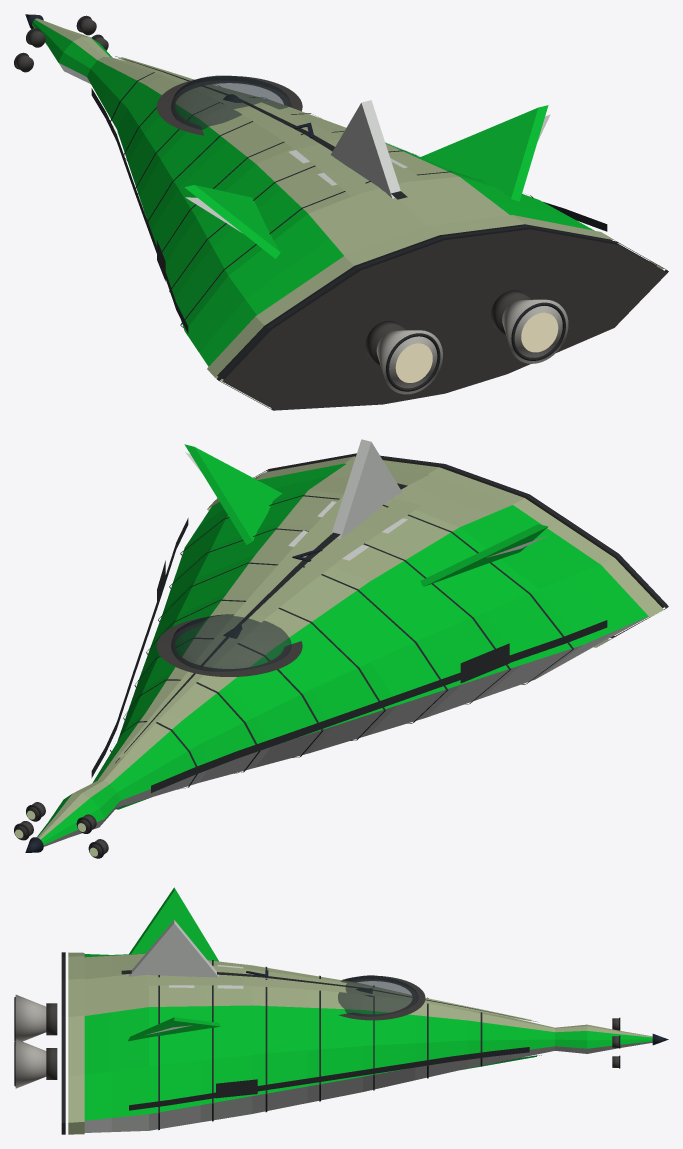
File: Ship_PyramidLifter_390936.glb
3 renders of one model, top to bottom at view 1: azimuth 30°, elevation 25°; view 2: azimuth 150°, elevation 25°; view 3: azimuth 270°, elevation 25°, orthographic. The views are drawn at different scales.
Parts seen in each view (by area): view 1: Fuselage_MainPyramidalLiftingBody, EngineDeck_AftFacetedDarkMountPlate, TailFin_Right_ShortCantedStabilizer, EngineDeck_AftOuterArmorCollar, PaintDorsalSplit_PrimaryCentralArmor, CanopyGlass_LowInsetSmokedDome, TailFin_Left_ShortCantedStabilizer, EngineEmitter, Nose_FacetedRamNeedle, CanopyFrame_LowInsetArmoredOvalRim, EngineBell_LeftWide_BurnishedNozzle, EngineBell_RightWide_BurnishedNozzle (+9 smaller); view 2: Fuselage_MainPyramidalLiftingBody, PaintDorsalSplit_PrimaryCentralArmor, CanopyGlass_LowInsetSmokedDome, EngineDeck_AftOuterArmorCollar, TailFin_Right_ShortCantedStabilizer, SideChinePanel_Left_LongDarkArmorJoint, Nose_FacetedRamNeedle, CanopyFrame_LowInsetArmoredOvalRim, TailFin_Center_TrimInsetPatch_B, TailFin_Center_LowDorsalKeel, TailFin_Left_ShortCantedStabilizer, EngineDeck_AftDarkCompressionSeal (+7 smaller); view 3: Fuselage_MainPyramidalLiftingBody, PaintDorsalSplit_PrimaryCentralArmor, EngineDeck_AftOuterArmorCollar, CanopyGlass_LowInsetSmokedDome, SideChinePanel_Right_LongDarkArmorJoint, TailFin_Left_ShortCantedStabilizer, Nose_FacetedRamNeedle, TailFin_Center_TrimInsetPatch_A, EngineBell_RightWide_BurnishedNozzle, EngineBell_LeftWide_BurnishedNozzle, CanopyFrame_LowInsetArmoredOvalRim, TailFin_Center_LowDorsalKeel (+6 smaller).
Boxes of the visible parts, box(x1,y1,x2,y2) form: Fuselage_MainPyramidalLiftingBody: box(87, 57, 656, 379); EngineDeck_AftFacetedDarkMountPlate: box(222, 229, 667, 410); TailFin_Right_ShortCantedStabilizer: box(419, 105, 548, 201); EngineDeck_AftOuterArmorCollar: box(207, 215, 663, 406); PaintDorsalSplit_PrimaryCentralArmor: box(118, 57, 421, 195); CanopyGlass_LowInsetSmokedDome: box(171, 75, 291, 129); TailFin_Left_ShortCantedStabilizer: box(185, 185, 280, 258); EngineEmitter: box(395, 312, 558, 382); Nose_FacetedRamNeedle: box(32, 18, 112, 83); CanopyFrame_LowInsetArmoredOvalRim: box(156, 76, 302, 135); EngineBell_LeftWide_BurnishedNozzle: box(376, 330, 442, 394); EngineBell_RightWide_BurnishedNozzle: box(502, 299, 568, 363); Fuselage_MainPyramidalLiftingBody: box(93, 463, 648, 807); PaintDorsalSplit_PrimaryCentralArmor: box(118, 495, 421, 757); CanopyGlass_LowInsetSmokedDome: box(171, 614, 291, 671); EngineDeck_AftOuterArmorCollar: box(207, 456, 663, 647); TailFin_Right_ShortCantedStabilizer: box(184, 444, 282, 544); SideChinePanel_Left_LongDarkArmorJoint: box(151, 620, 607, 792); Nose_FacetedRamNeedle: box(37, 780, 120, 846); CanopyFrame_LowInsetArmoredOvalRim: box(156, 617, 302, 676); TailFin_Center_TrimInsetPatch_B: box(346, 450, 398, 534); TailFin_Center_LowDorsalKeel: box(331, 439, 402, 539); TailFin_Left_ShortCantedStabilizer: box(420, 524, 548, 586); EngineDeck_AftDarkCompressionSeal: box(217, 453, 668, 637); Fuselage_MainPyramidalLiftingBody: box(84, 953, 554, 1132); PaintDorsalSplit_PrimaryCentralArmor: box(145, 965, 531, 1021); EngineDeck_AftOuterArmorCollar: box(68, 952, 84, 1134); CanopyGlass_LowInsetSmokedDome: box(338, 975, 418, 1016); SideChinePanel_Right_LongDarkArmorJoint: box(129, 1047, 529, 1110); TailFin_Left_ShortCantedStabilizer: box(129, 887, 218, 961); Nose_FacetedRamNeedle: box(555, 1024, 652, 1053); TailFin_Center_TrimInsetPatch_A: box(136, 930, 211, 977); EngineBell_RightWide_BurnishedNozzle: box(15, 1039, 46, 1088); EngineBell_LeftWide_BurnishedNozzle: box(15, 994, 46, 1041); CanopyFrame_LowInsetArmoredOvalRim: box(339, 976, 425, 1020); TailFin_Center_LowDorsalKeel: box(129, 920, 218, 977).
Size of the model in its own units: 3.93 by 2.05 by 6.85.
